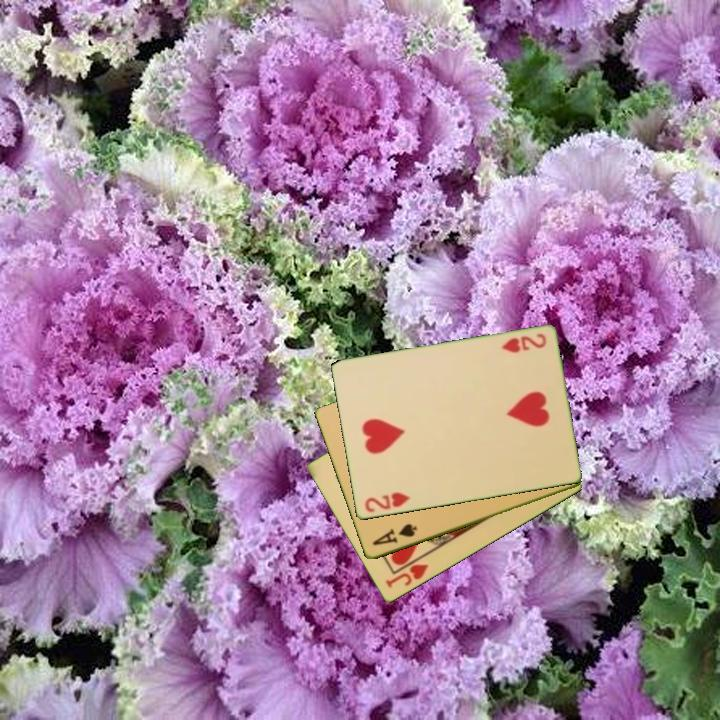2h: (361, 489, 412, 516), (498, 330, 549, 356)
As: (369, 520, 420, 549)
Jh: (382, 561, 431, 591)
